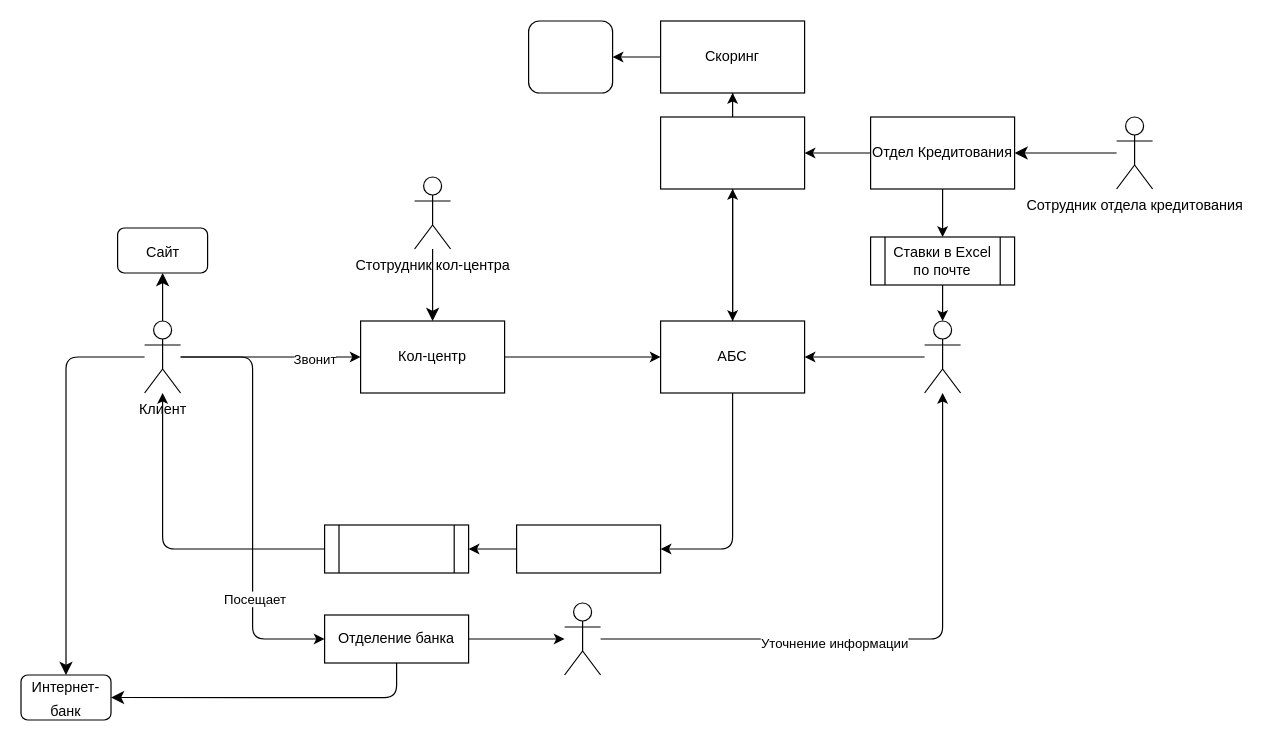
The diagram is 1264 pixels wide and 742 high, and some of its shapes have lost their labels. The shapes that lost their labels are listed below. From the top down, each one's centre as x and y in pixels, then its label:
At point (570, 56): "Бюро кредитных исторй".
At point (732, 152): "Кредитный конвейер".
At point (942, 356): "Бэк Офис".
At point (396, 548): "Уведомления по заявкам".
At point (588, 548): "СМС-шлюз".
At point (582, 638): "Фронт Офис".
